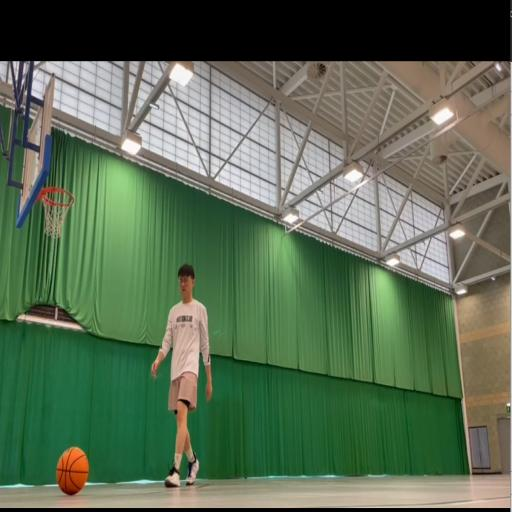hoops: (42, 178, 76, 245)
